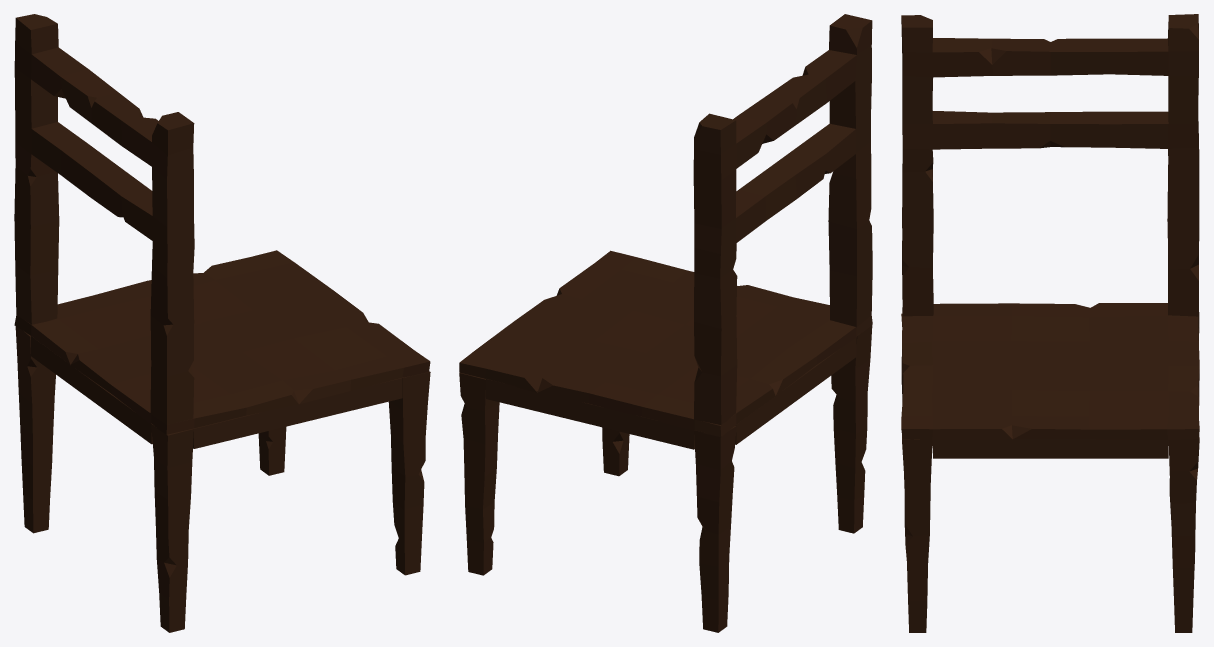
The model's file is playerchair.fbx.
3 views of the same model, side by side, from view 1: azimuth 30°, elevation 25°; view 2: azimuth 150°, elevation 25°; view 3: azimuth 270°, elevation 25° (orthographic). The views are drawn at different scales.
Parts seen in each view (by area): view 1: new playerchair, Plane.003, Plane.002, Plane.001; view 2: new playerchair, Plane.003, Plane.002, Plane.001; view 3: new playerchair, Plane.003, Plane.002, Plane.001.
Part boxes in pixels (x1,y1,x2,y2): new playerchair: (14, 250, 430, 434); Plane.003: (14, 14, 194, 424); Plane.002: (15, 326, 430, 632); Plane.001: (31, 336, 402, 448); new playerchair: (459, 250, 872, 436); Plane.003: (693, 14, 872, 424); Plane.002: (459, 325, 872, 632); Plane.001: (486, 337, 856, 449); new playerchair: (901, 303, 1199, 440); Plane.003: (901, 14, 1199, 316); Plane.002: (901, 313, 1199, 632); Plane.001: (932, 439, 1168, 458).
Bounding box in the file's own units: 138 × 253 × 138.
